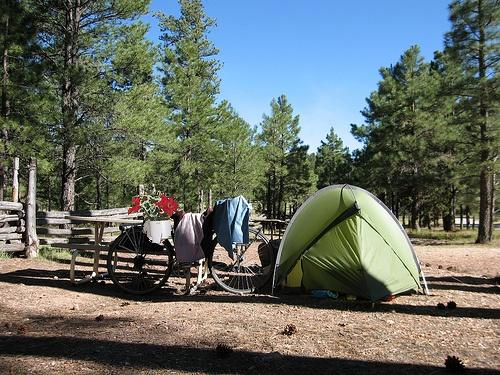tampered: (129, 191, 178, 243)
